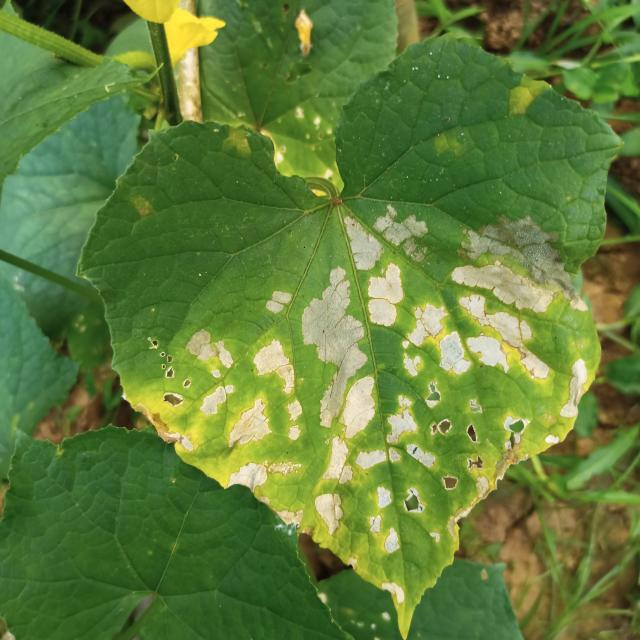disease_cucumber: (148, 199, 598, 606), (499, 67, 556, 121)
